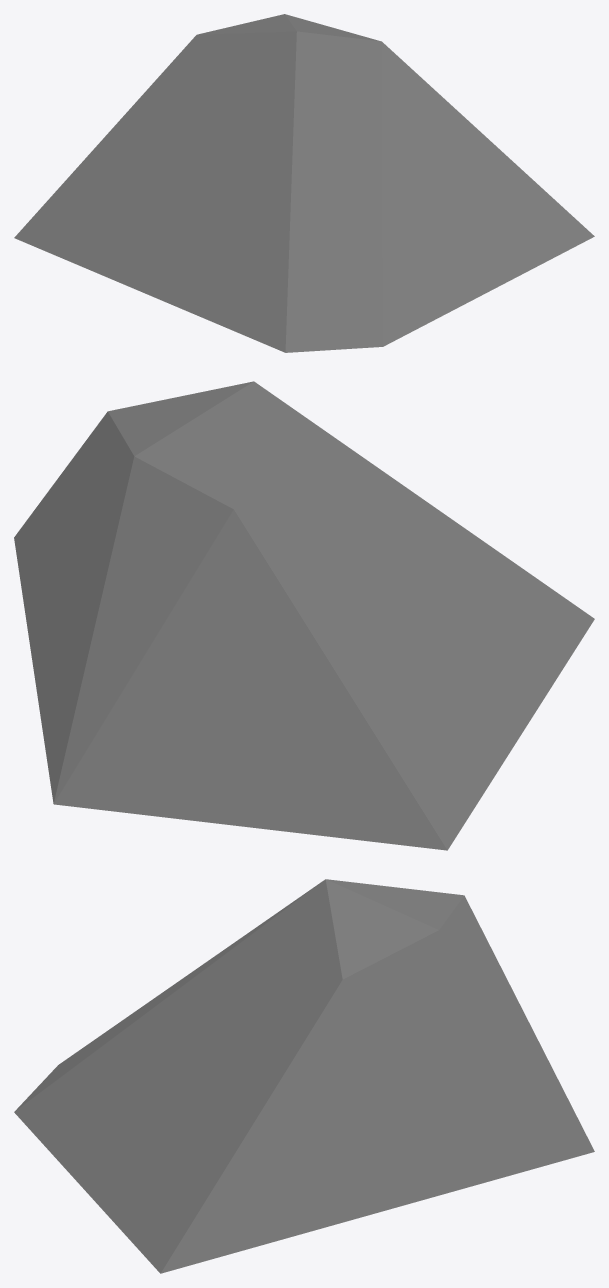
Rendered from object_64_lev1.glb.
3 renders of one model, top to bottom at view 1: azimuth 30°, elevation 25°; view 2: azimuth 150°, elevation 25°; view 3: azimuth 270°, elevation 25°, orthographic. The views are drawn at different scales.
Visible parts, largest first — view 1: object_64_lev1; view 2: object_64_lev1; view 3: object_64_lev1.
Part boxes in pixels (<box>): object_64_lev1: <box>14,14,594,352</box>; object_64_lev1: <box>14,381,594,850</box>; object_64_lev1: <box>14,879,594,1273</box>.
Size of the model in its own units: 0.3725 by 0.1723 by 0.3519.
1 material, 1 textured.
